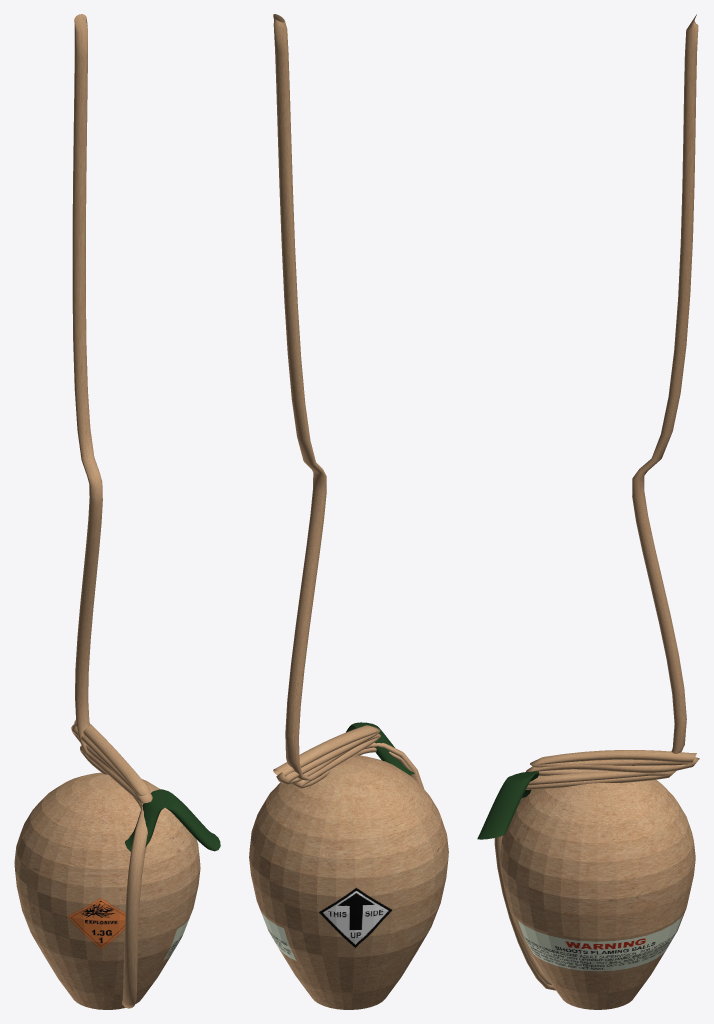
The model's file is RealisticBall&Fuse3inch.fbx.
3 renders of one model, left to right at view 1: azimuth 30°, elevation 25°; view 2: azimuth 150°, elevation 25°; view 3: azimuth 270°, elevation 25°, orthographic. The views are drawn at different scales.
Visible parts, largest first — view 1: Sphere.001, UnWrapped, Wrapped.001, BezierCurve.001; view 2: Sphere.001, UnWrapped, Wrapped.001, BezierCurve.001; view 3: Sphere.001, UnWrapped, Wrapped.001, BezierCurve.001.
Boxes of the visible parts, bbox=[...] form: Sphere.001: bbox=[14, 772, 200, 1009]; UnWrapped: bbox=[72, 14, 147, 997]; Wrapped.001: bbox=[71, 720, 152, 1008]; BezierCurve.001: bbox=[125, 789, 220, 851]; Sphere.001: bbox=[249, 755, 448, 1009]; UnWrapped: bbox=[273, 14, 423, 788]; Wrapped.001: bbox=[273, 725, 414, 788]; BezierCurve.001: bbox=[346, 722, 414, 774]; Sphere.001: bbox=[500, 780, 695, 1009]; UnWrapped: bbox=[500, 14, 698, 985]; Wrapped.001: bbox=[494, 750, 699, 990]; BezierCurve.001: bbox=[477, 771, 539, 839].
Size of the model in its own units: 14 by 78.51 by 15.87.
